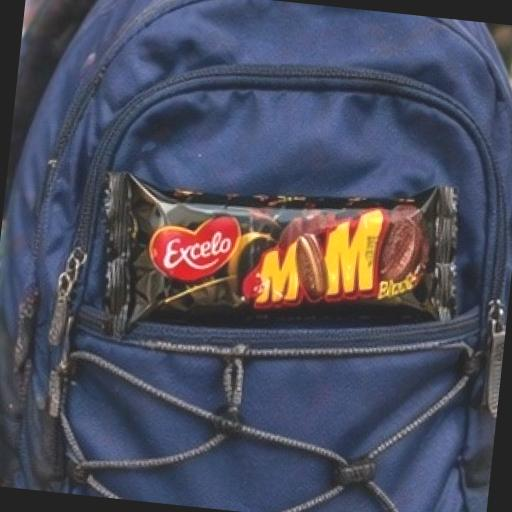MOMO: (57, 118, 512, 401)
